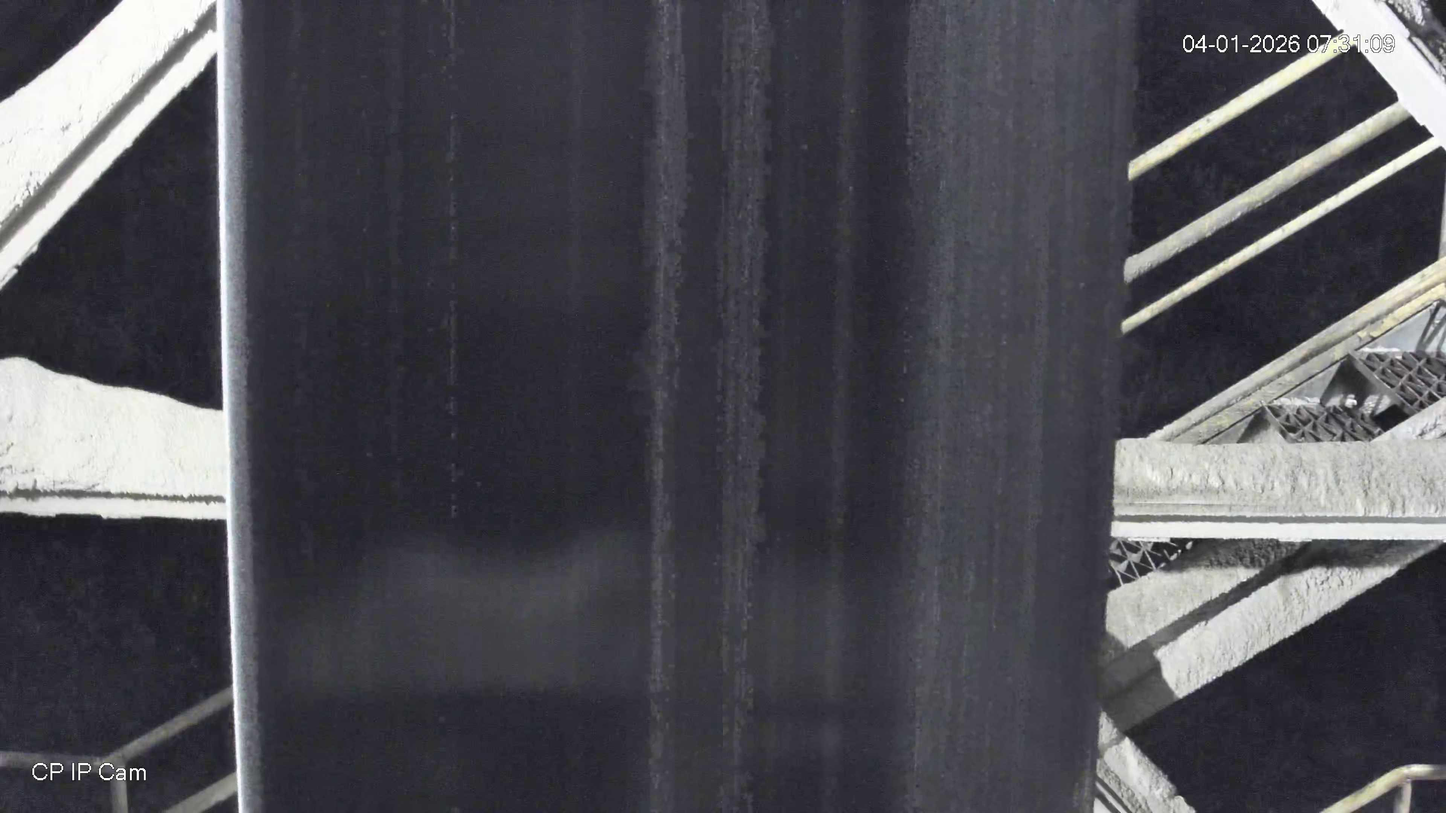belt_roi: (219, 0, 1135, 813)
